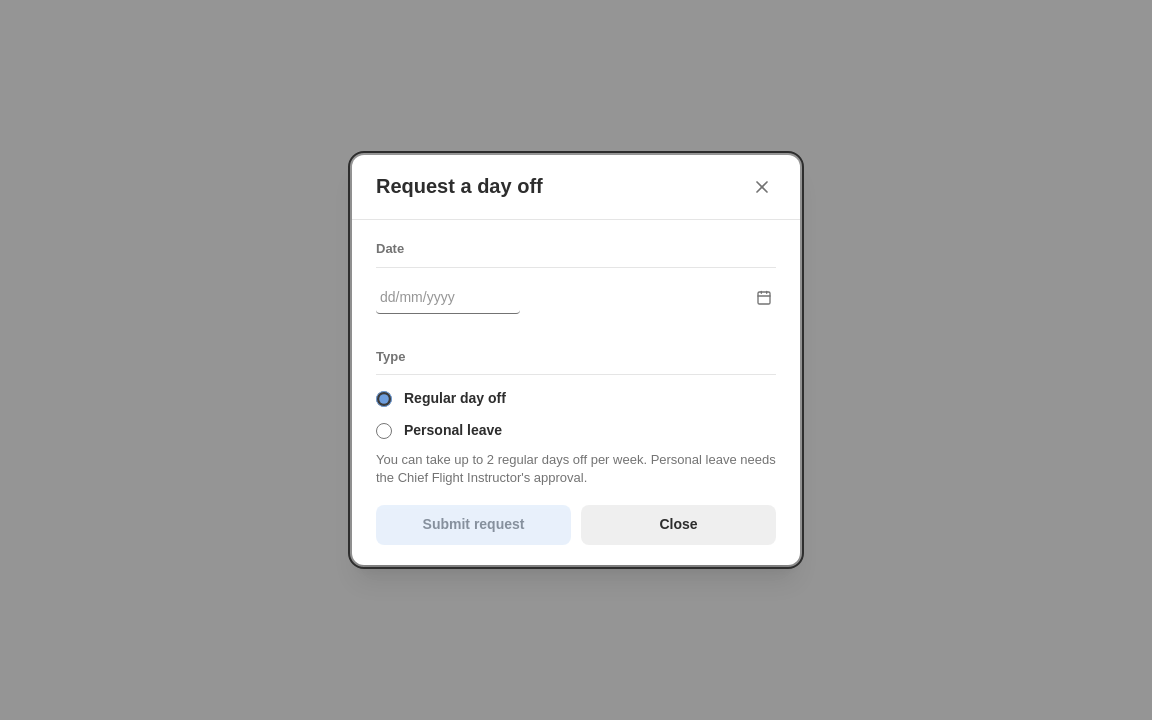
Test: InstructorTimeOffFormModal › fills the date field from the calendar picker
This screenshot has width=1152, height=720.
Click the button named "Open calendar".
click(764, 298)  # box [752,286,776,310]
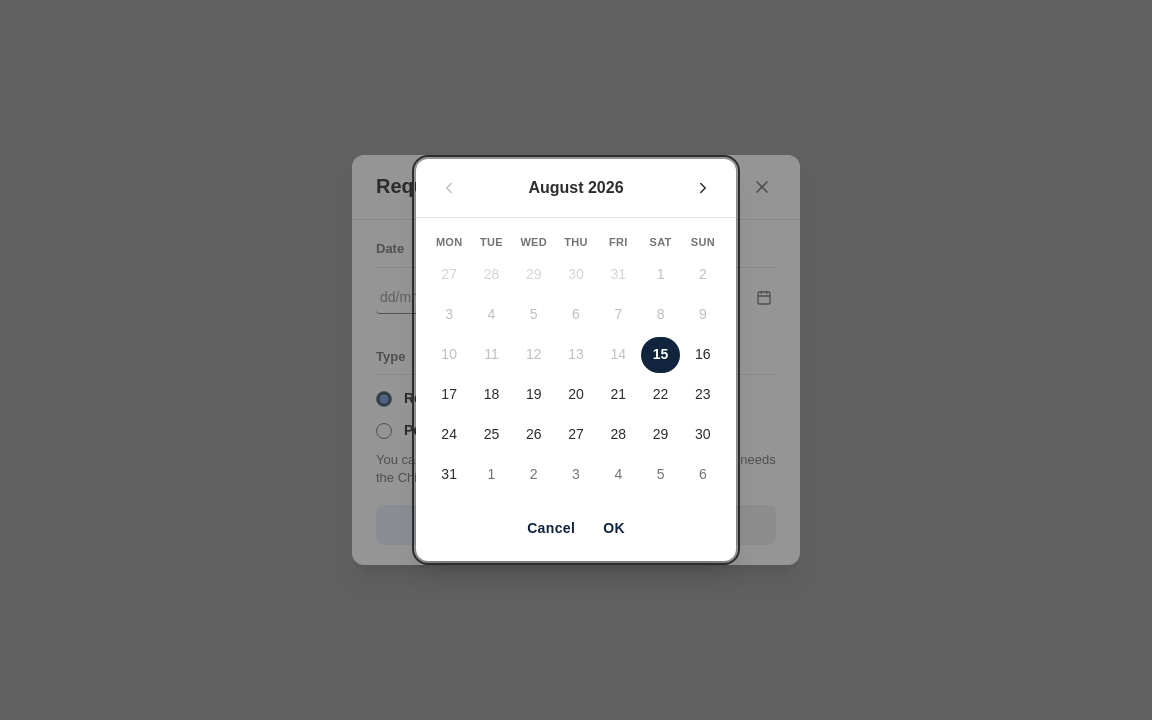
Click the button "OK".
click(614, 529)  # box [603,519,625,539]
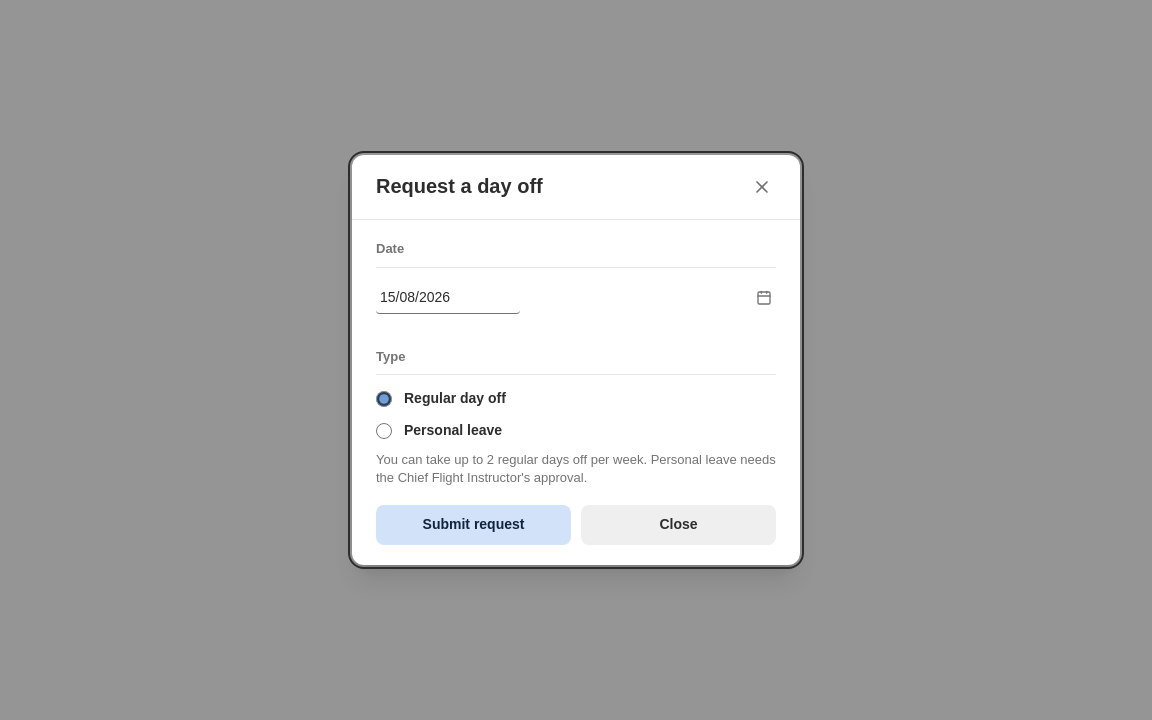
Now the field named "Date" holds "15/08/2026", box [376,282,520,314]
Now the button "Submit request" is enabled, box [376,505,571,545]
